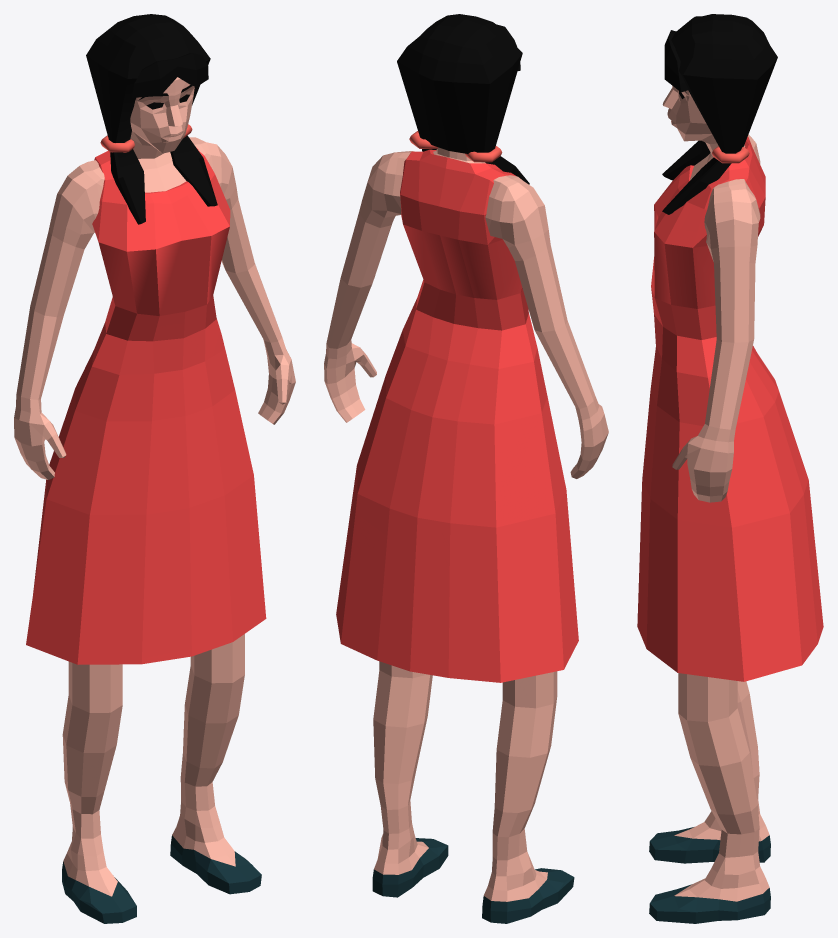
Rendered from Female_07.FBX.
The picture shows the model from 3 angles, left to right: view 1: azimuth 30°, elevation 25°; view 2: azimuth 150°, elevation 25°; view 3: azimuth 270°, elevation 25°; orthographic projection.
Visible parts, largest first — view 1: Female_07; view 2: Female_07; view 3: Female_07.
Boxes of the visible parts, bbox=[...] form: Female_07: bbox=[14, 14, 295, 923]; Female_07: bbox=[324, 14, 608, 923]; Female_07: bbox=[637, 14, 823, 923].
Size of the model in its own units: 0.5663 by 1.72 by 0.3369.
1 material, 1 textured.
